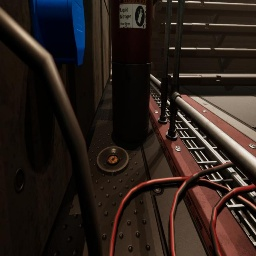NitrogenTank ,: (111, 0, 153, 144)
